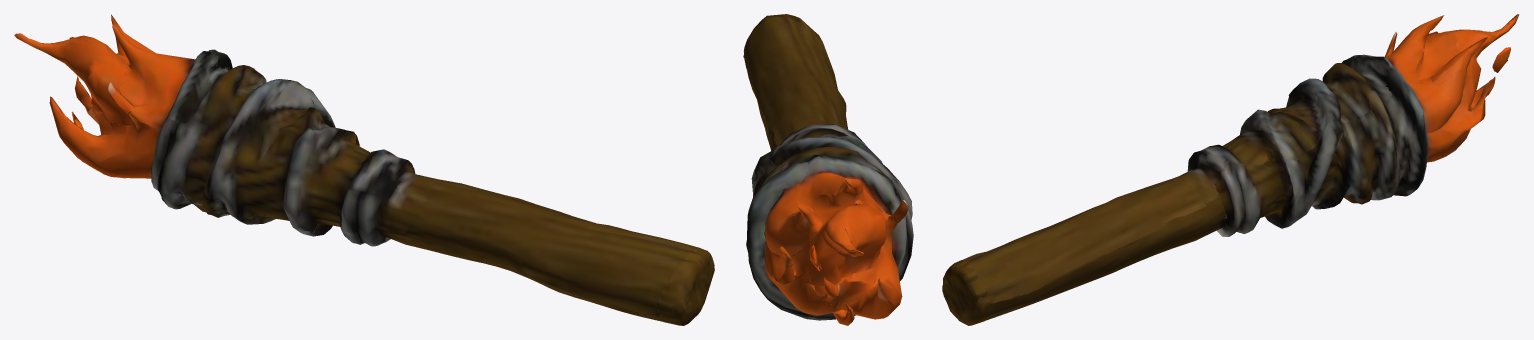
The model's file is torcia.glb.
3 views of the same model, side by side, from view 1: azimuth 30°, elevation 25°; view 2: azimuth 150°, elevation 25°; view 3: azimuth 270°, elevation 25° (orthographic). The views are drawn at different scales.
Visible parts, largest first — view 1: torcia; view 2: torcia; view 3: torcia.
Part boxes in pixels (x1,y1,x2,y2): torcia: (14,14,714,325); torcia: (743,14,913,325); torcia: (942,14,1519,325).
Bounding box in the file's own units: 0.2302 × 0.0997 × 0.3096.
Materials: 1 (1 with a texture image).
